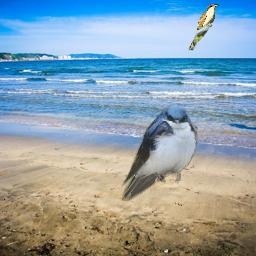Cuckoo: (188, 3, 220, 51)
Swallow: (119, 103, 198, 201)
